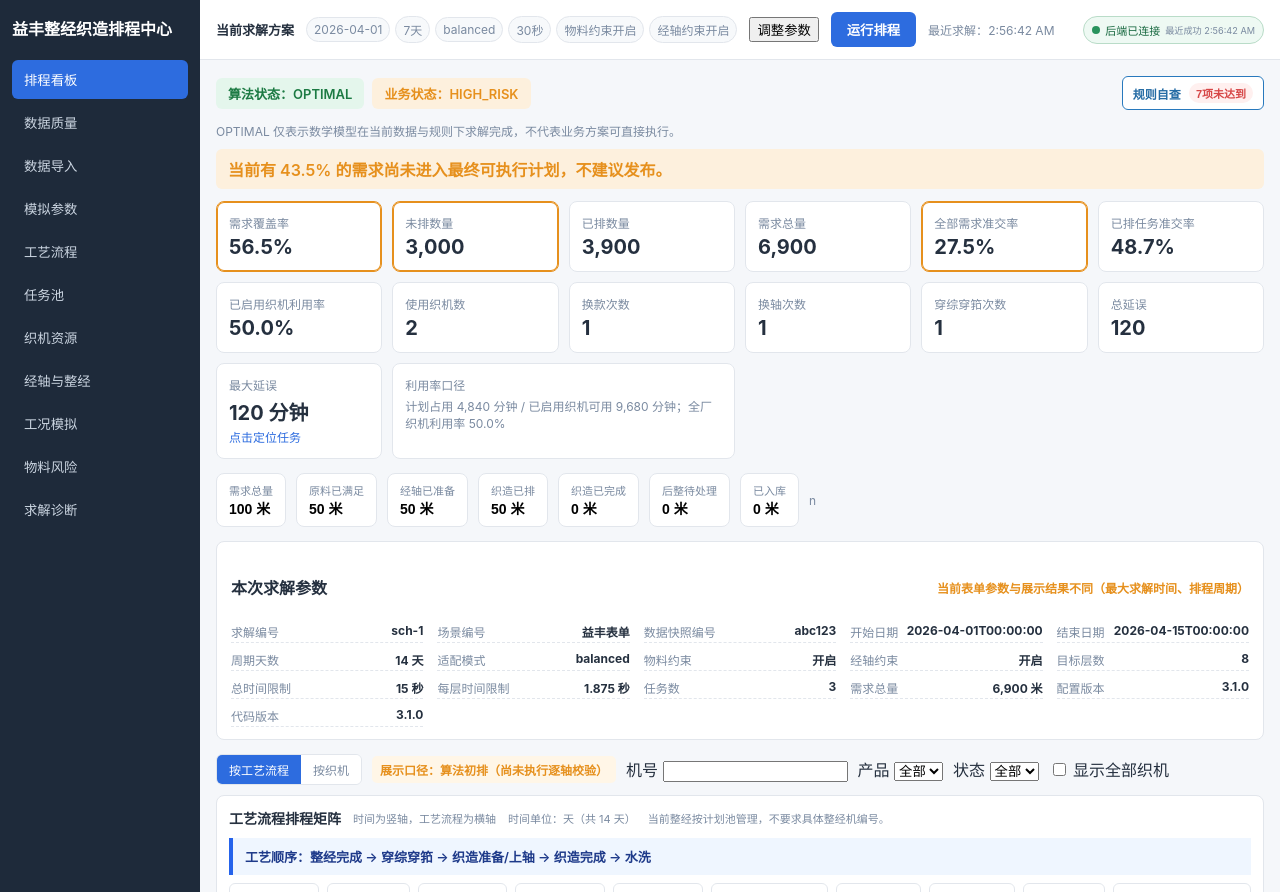
Test: App › 织机资源页可进入并展示织机表格
Click the button "织机资源": (100, 338) [12,318,188,357]
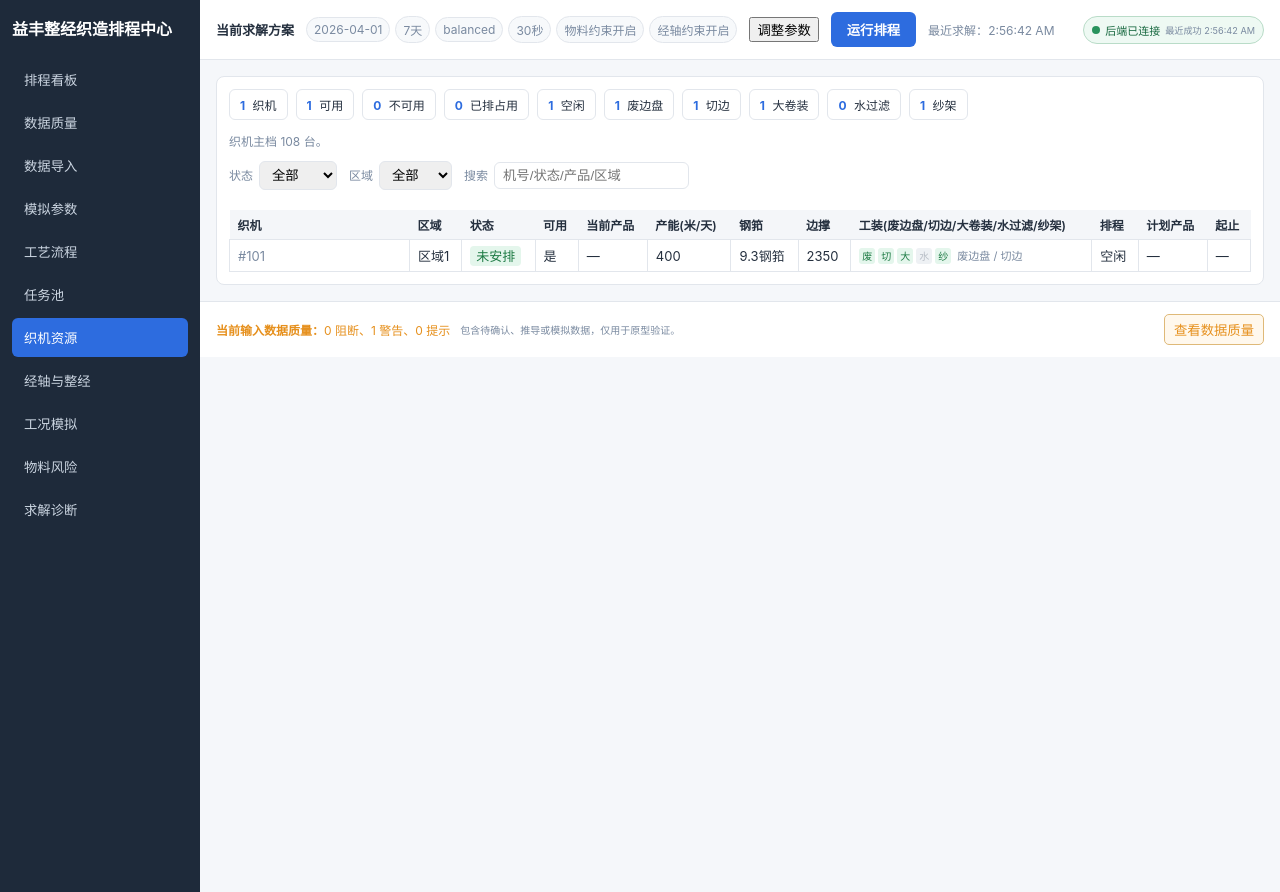
Check: the text "#101" is shown, box [230,240,410,272]
Check: the element with test id "looms-page" is shown, box [216,76,1264,285]
Check: the number of rows with test id "loom-row" is 1, box [230,240,1250,272]
